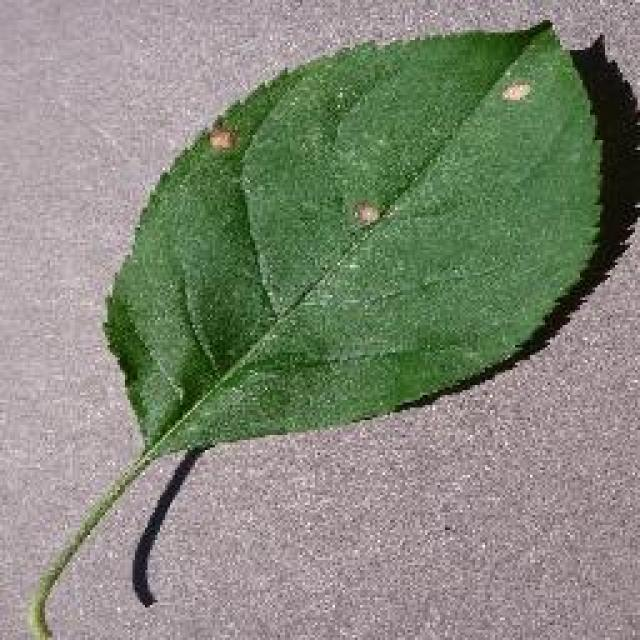Black_rot: (25, 18, 613, 638)
